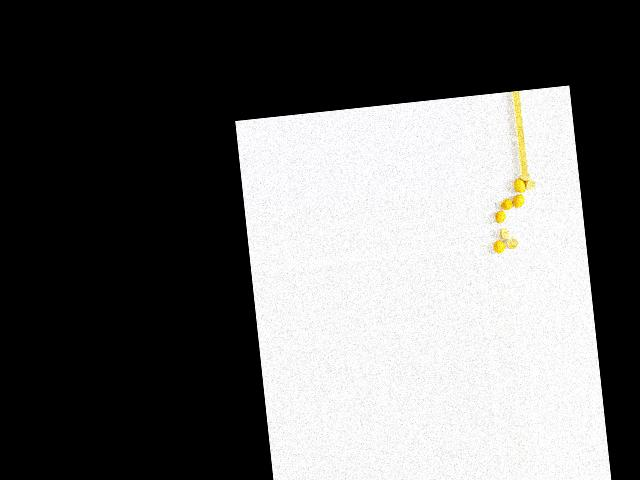lemon: (510, 177, 526, 198)
